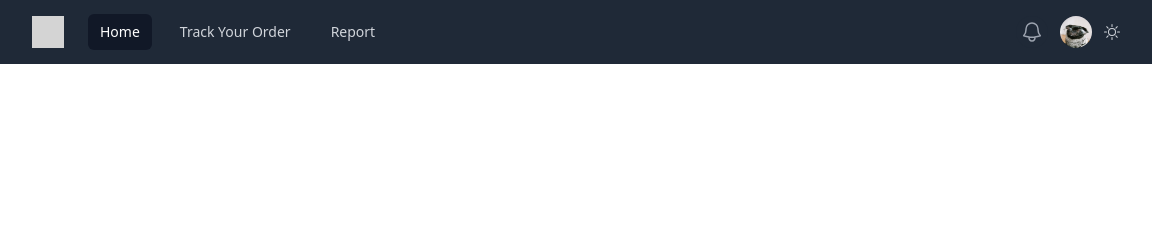
Test: Header Component › Should display a dropdown text
Click the button with test id "dropdown" at coordinates (1076, 32), box 1060,16 -> 1092,48
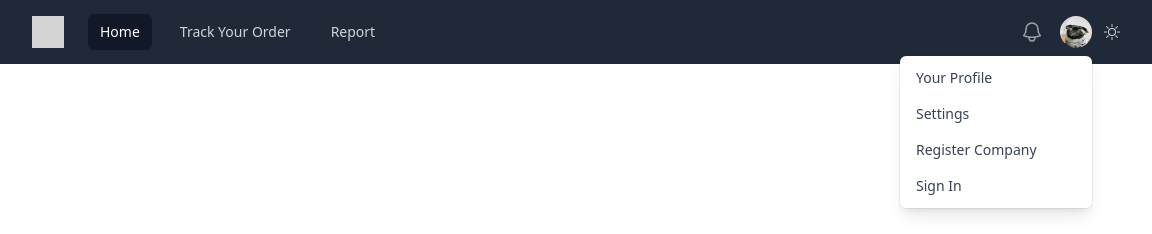
Expected: the header with test id "nav-bar" shows "Register Company", 900,132 -> 1092,168
Expected: the header with test id "nav-bar" shows "Settings", 900,96 -> 1092,132
Expected: the header with test id "nav-bar" shows "Your Profile", 900,60 -> 1092,96
